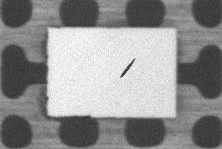DIE_INK: (176, 37, 204, 53)
